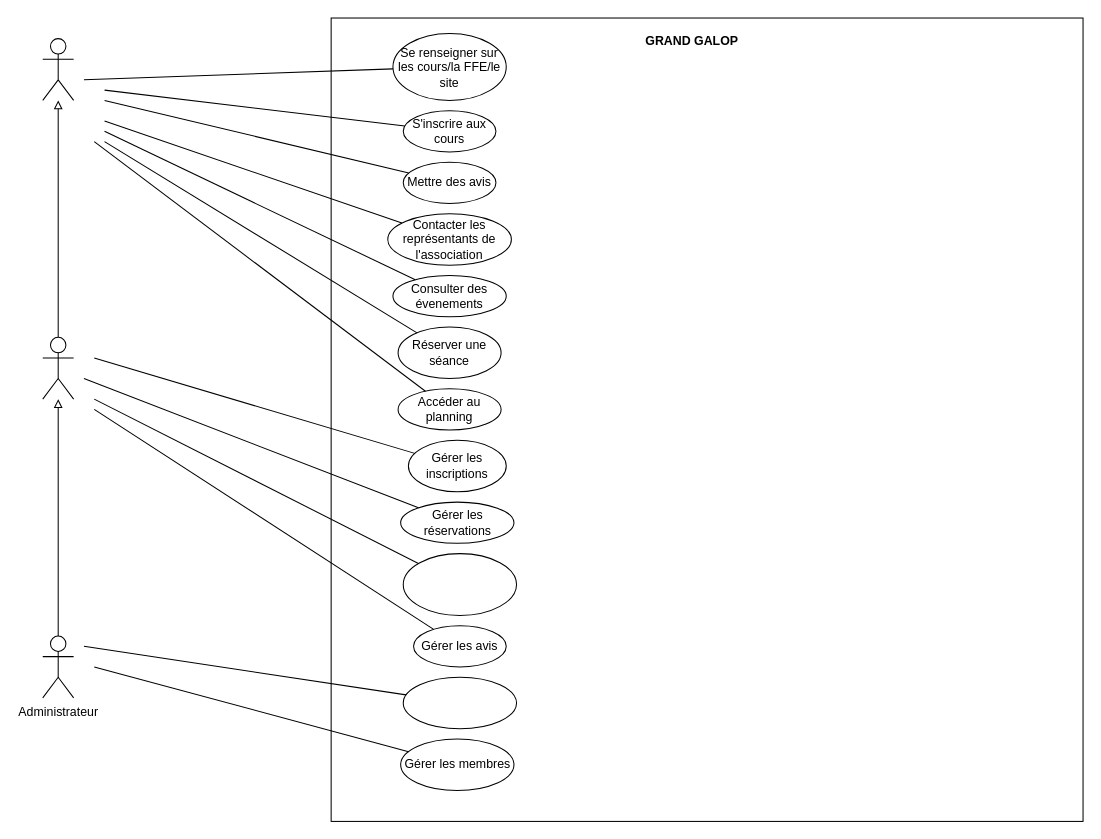
This 1101x839 diagram has some shape labels left out. Each missing label, with the box of its shape:
Ajouter/Modifier des évenements: (402, 553, 517, 615)
Gérer le contenu du site: (402, 676, 517, 729)
Moniteur: (42, 336, 74, 399)
Visiteur du site: (42, 38, 74, 100)
